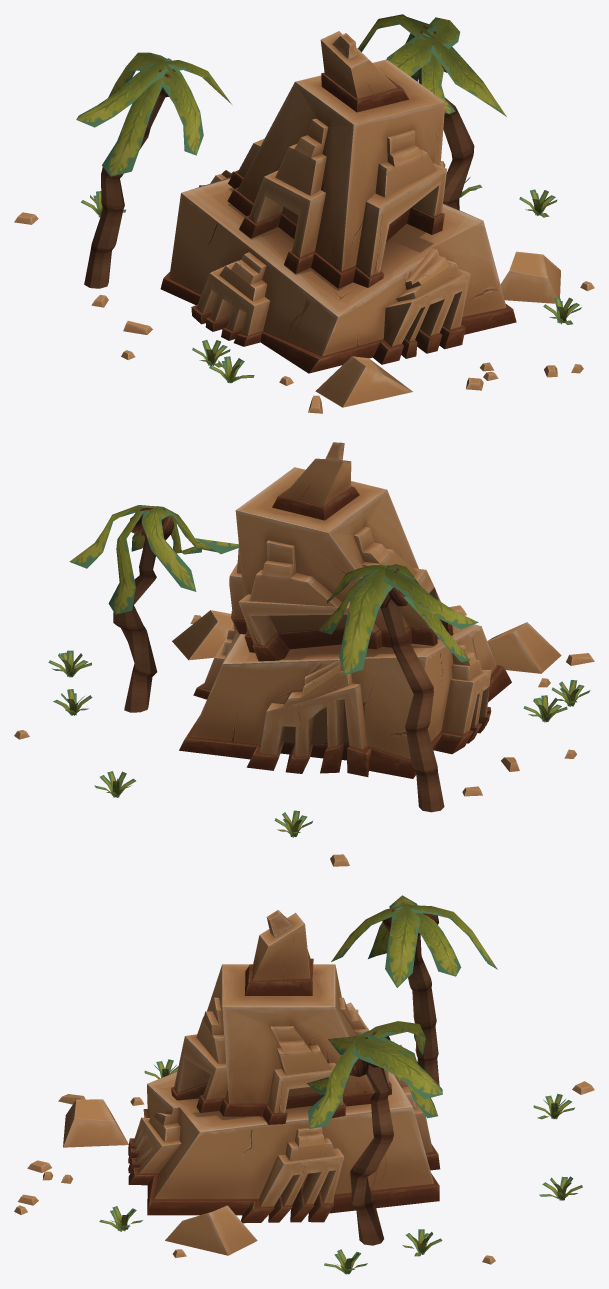
File: new_environment_1.fbx
The picture shows the model from 3 angles, top to bottom: view 1: azimuth 30°, elevation 25°; view 2: azimuth 150°, elevation 25°; view 3: azimuth 270°, elevation 25°; orthographic projection. The views are drawn at different scales.
Parts seen in each view (by area): view 1: polySurface257, polySurface273, polySurface282, polySurface294, polySurface263, polySurface222, polySurface298, polySurface271, polySurface291, polySurface229, polySurface246, polySurface302 (+4 smaller); view 2: polySurface257, polySurface273, polySurface282, polySurface298, polySurface223, polySurface294, polySurface263, polySurface302, polySurface271, polySurface232, polySurface286, polySurface222 (+1 smaller); view 3: polySurface257, polySurface273, polySurface298, polySurface263, polySurface294, polySurface282, polySurface286, polySurface248, polySurface229, polySurface220, polySurface223, polySurface302 (+2 smaller).
Part boxes in pixels (bbox=[...]): polySurface257: bbox=[160, 170, 516, 373]; polySurface273: bbox=[227, 31, 447, 288]; polySurface282: bbox=[84, 95, 165, 288]; polySurface294: bbox=[315, 356, 412, 407]; polySurface263: bbox=[500, 251, 560, 303]; polySurface222: bbox=[102, 62, 174, 176]; polySurface298: bbox=[418, 68, 474, 209]; polySurface271: bbox=[76, 62, 165, 127]; polySurface291: bbox=[162, 59, 203, 155]; polySurface229: bbox=[430, 40, 506, 116]; polySurface246: bbox=[386, 28, 435, 76]; polySurface302: bbox=[358, 14, 435, 52]; polySurface257: bbox=[179, 623, 511, 778]; polySurface273: bbox=[229, 442, 453, 661]; polySurface282: bbox=[380, 599, 444, 812]; polySurface298: bbox=[113, 535, 157, 712]; polySurface223: bbox=[339, 569, 393, 675]; polySurface294: bbox=[487, 622, 561, 673]; polySurface263: bbox=[172, 610, 233, 660]; polySurface302: bbox=[141, 506, 196, 591]; polySurface271: bbox=[384, 569, 478, 629]; polySurface232: bbox=[108, 507, 167, 614]; polySurface286: bbox=[69, 505, 158, 568]; polySurface222: bbox=[384, 565, 470, 662]; polySurface257: bbox=[128, 1002, 440, 1223]; polySurface273: bbox=[171, 910, 391, 1124]; polySurface298: bbox=[350, 1065, 393, 1245]; polySurface263: bbox=[165, 1205, 257, 1255]; polySurface294: bbox=[63, 1099, 128, 1147]; polySurface282: bbox=[408, 934, 439, 1085]; polySurface286: bbox=[352, 1035, 442, 1099]; polySurface248: bbox=[385, 905, 419, 987]; polySurface229: bbox=[308, 1039, 358, 1128]; polySurface220: bbox=[395, 905, 461, 976]; polySurface223: bbox=[409, 905, 497, 969]; polySurface302: bbox=[353, 1021, 425, 1054].
Size of what is drawn, in the model's own units: 27.81 by 14.85 by 30.38.
1 material, 1 textured.
